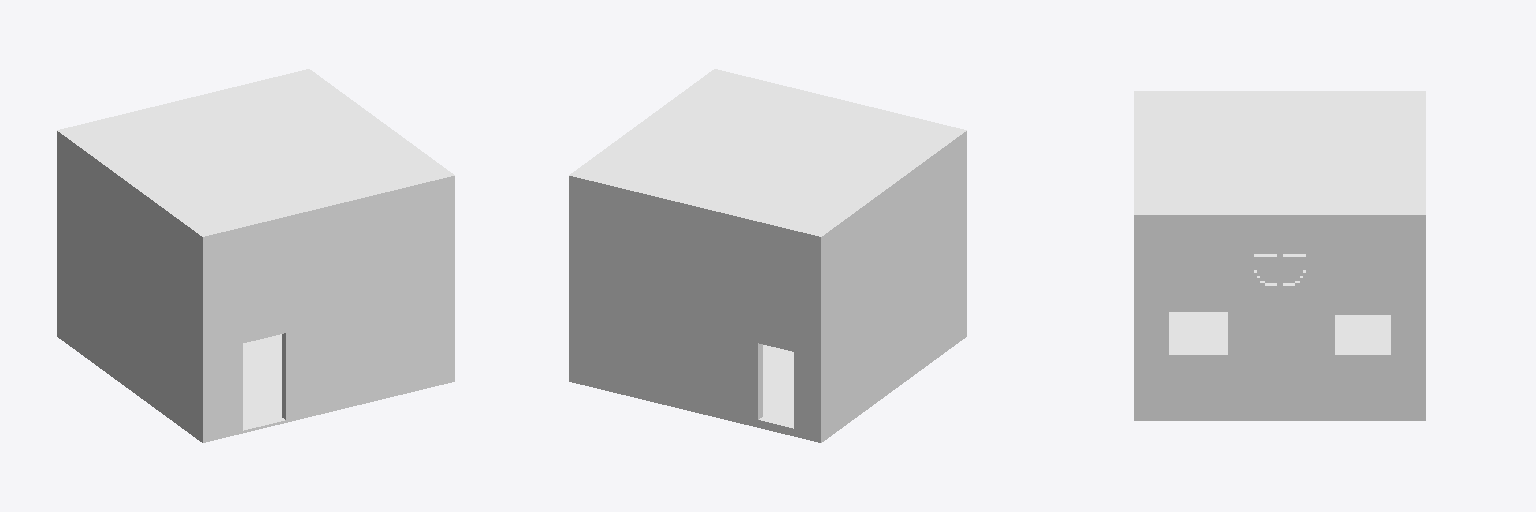
The model's file is minigame.obj.
3 views of the same model, side by side, from view 1: azimuth 30°, elevation 25°; view 2: azimuth 150°, elevation 25°; view 3: azimuth 270°, elevation 25° (orthographic).
Parts seen in each view (by area): view 1: object 1; view 2: object 1; view 3: object 1.
Boxes of the visible parts, <box> form: object 1: <box>57,69,454,442</box>; object 1: <box>569,69,966,442</box>; object 1: <box>1134,91,1425,420</box>.
Size of the model in its own units: 10 by 7.8 by 10.